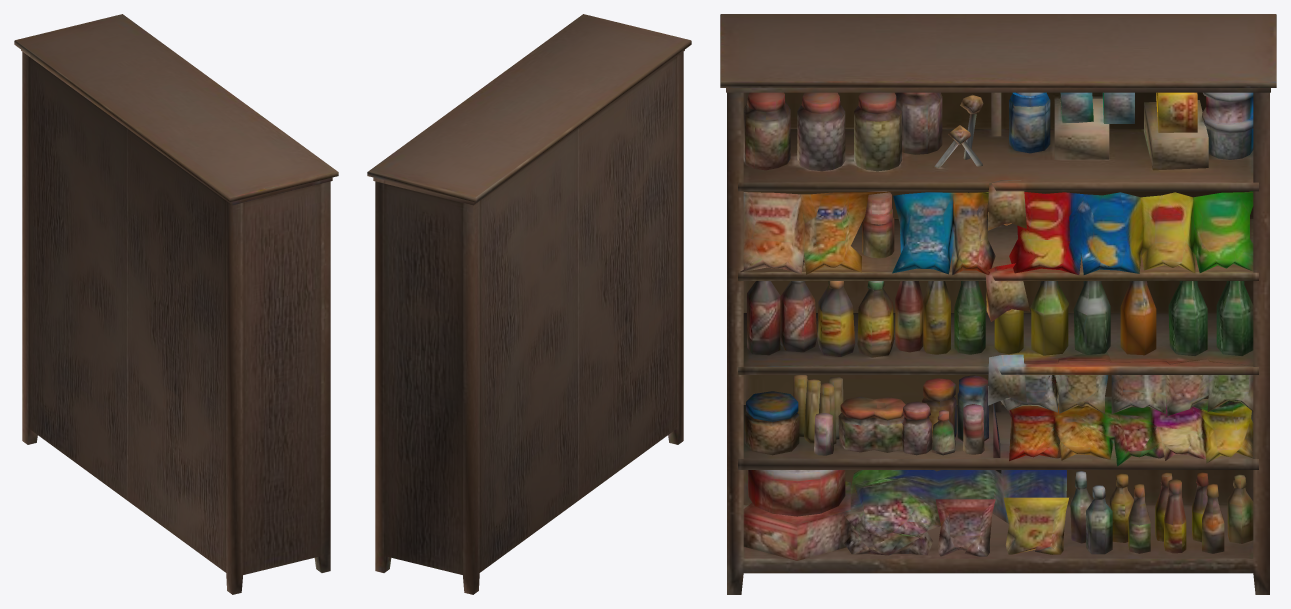
The model's file is shelf.glb.
The picture shows the model from 3 angles, left to right: view 1: azimuth 30°, elevation 25°; view 2: azimuth 150°, elevation 25°; view 3: azimuth 270°, elevation 25°; orthographic projection. The views are drawn at different scales.
Visible parts, largest first — view 1: tripo_node_49a5f044-32f9-4093-a111-ea4c1631d770; view 2: tripo_node_49a5f044-32f9-4093-a111-ea4c1631d770; view 3: tripo_node_49a5f044-32f9-4093-a111-ea4c1631d770.
Boxes of the visible parts, x1,y1,x2,y2 form: tripo_node_49a5f044-32f9-4093-a111-ea4c1631d770: (14,14,338,594); tripo_node_49a5f044-32f9-4093-a111-ea4c1631d770: (367,14,691,594); tripo_node_49a5f044-32f9-4093-a111-ea4c1631d770: (720,14,1276,594).
Bounding box in the file's own units: 0.291 × 0.998 × 0.9746.
Materials: 1 (1 with a texture image).
